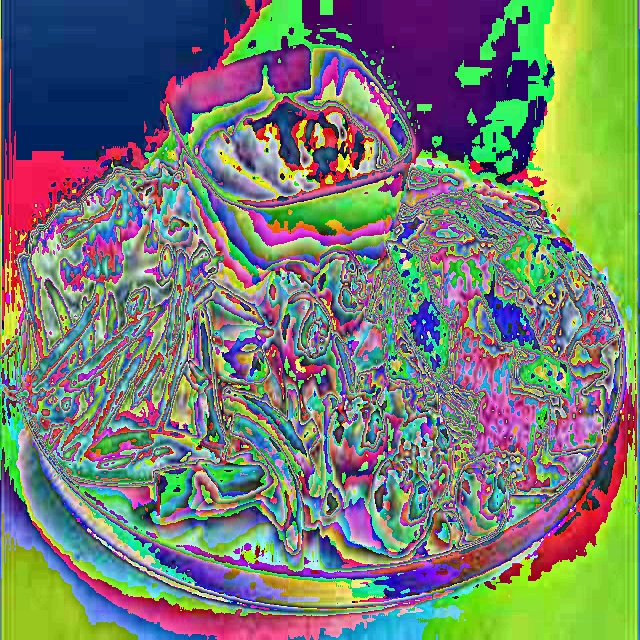background: (0, 158, 621, 551), (188, 99, 382, 203)
